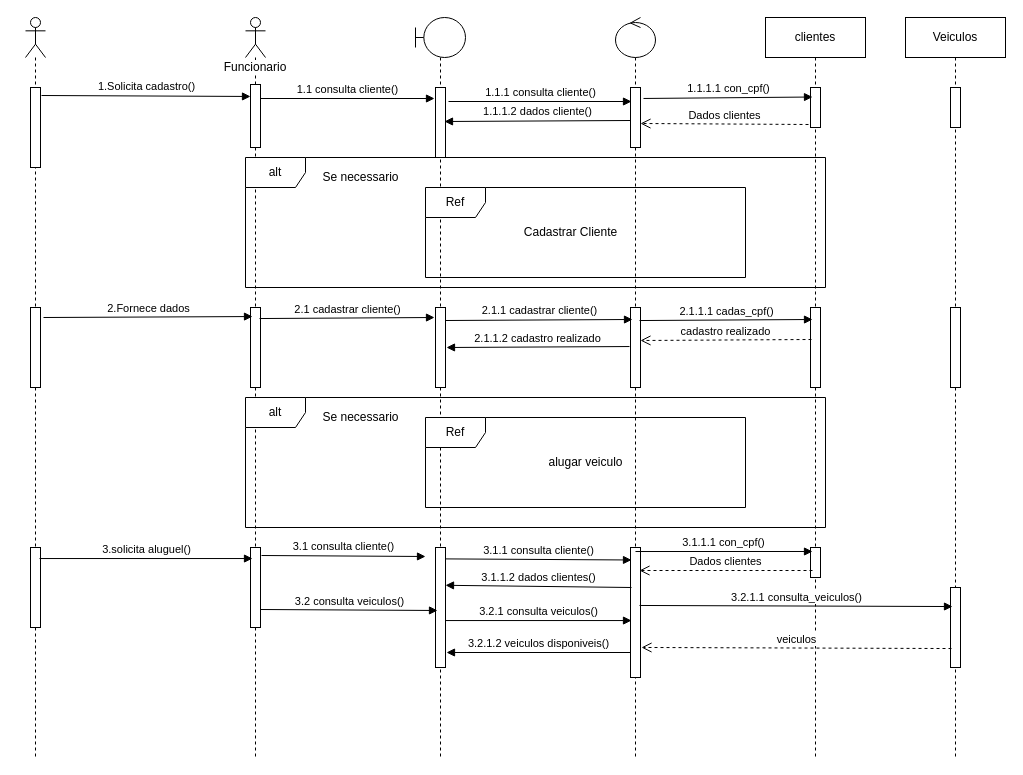
The diagram is 1023 pixels wide and 775 high, and some of its shapes have lost their labels. Each missing label, with the box of its shape:
Cliente: (24, 16, 46, 758)
Controladora_Loja: (614, 16, 656, 758)
Interface_Loja: (414, 16, 466, 758)
